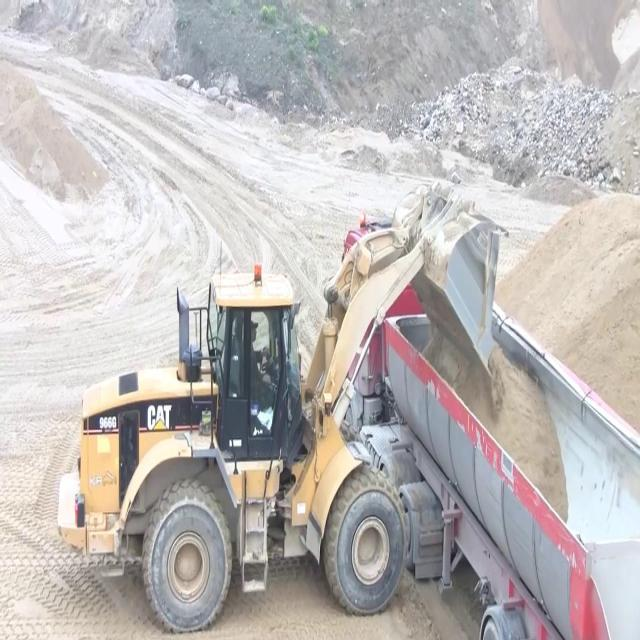buldozerpayloadergrader: (56, 186, 500, 630)
dump_truck: (388, 310, 638, 639)
